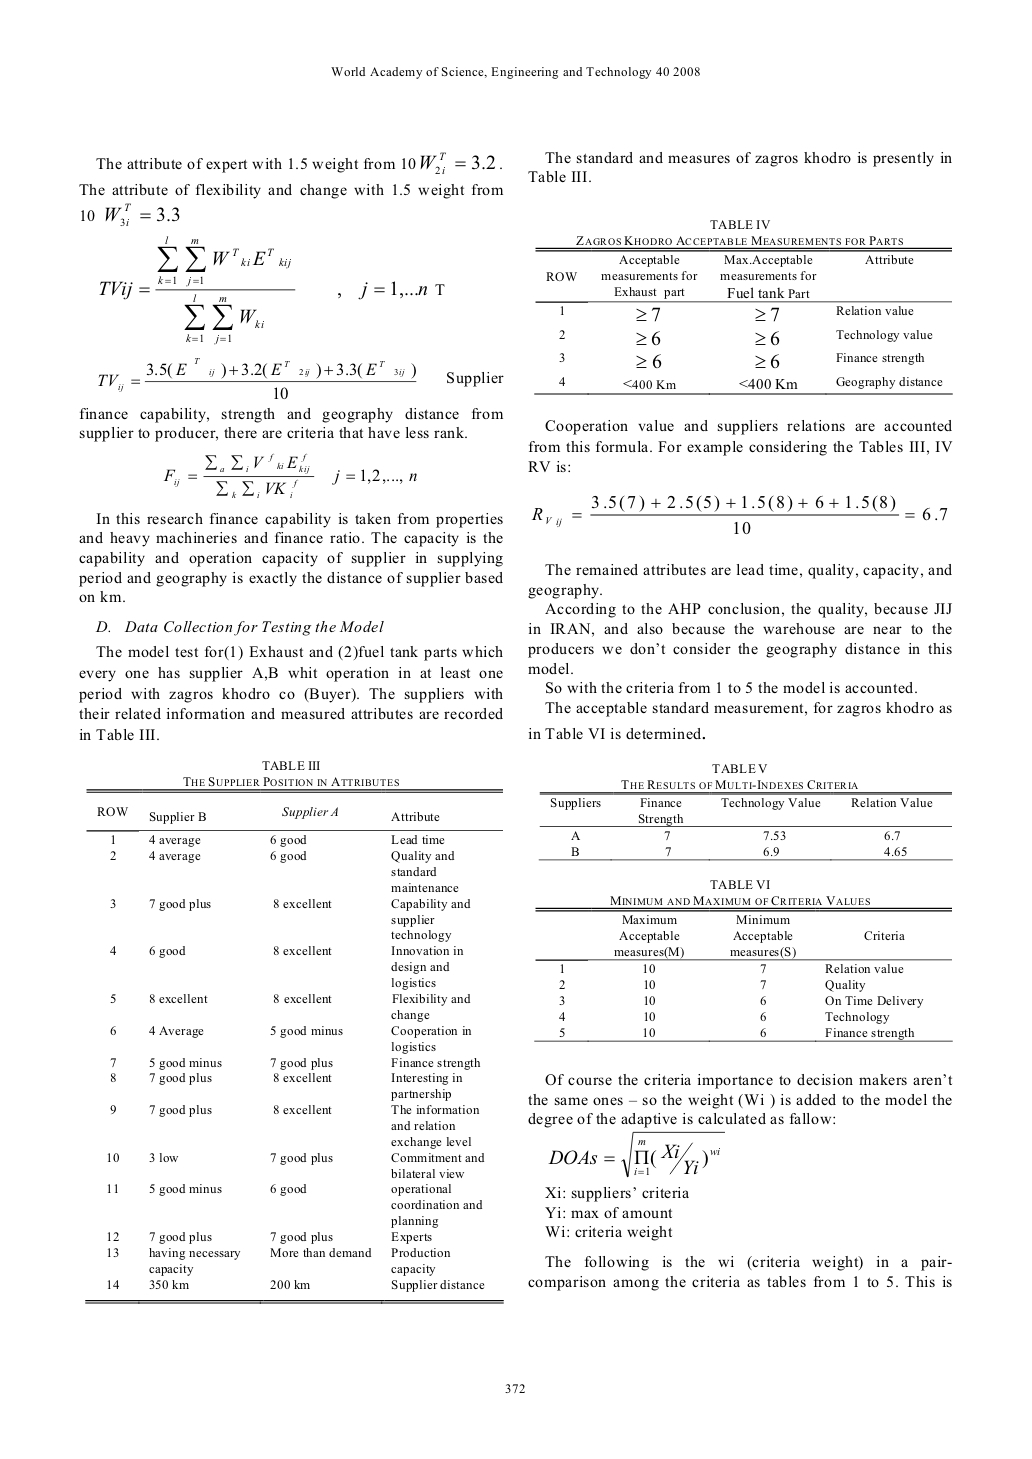Table: (85, 789, 503, 1303), (534, 791, 952, 1042), (534, 247, 952, 394)
formula: (99, 236, 445, 344), (98, 357, 503, 400), (531, 495, 947, 535), (163, 452, 415, 498), (548, 1131, 724, 1177)
